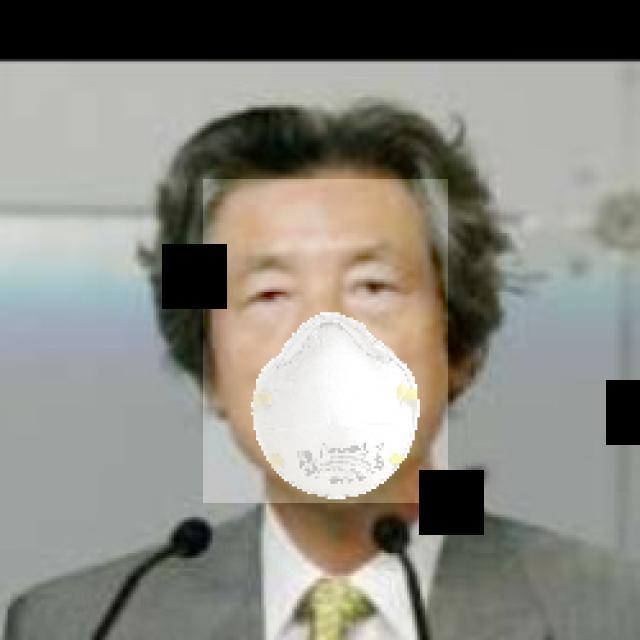n95: (203, 179, 448, 503)
